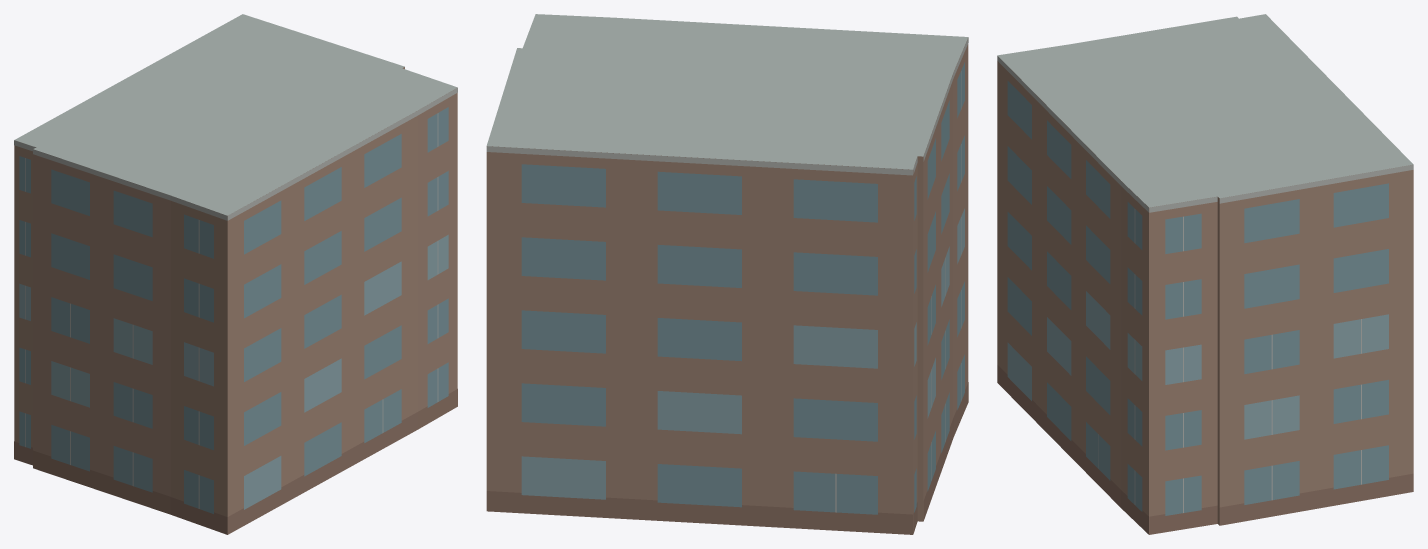
File: survey-upis-32725844.glb
3 views of the same model, side by side, from view 1: azimuth 30°, elevation 25°; view 2: azimuth 150°, elevation 25°; view 3: azimuth 270°, elevation 25° (orthographic). The views are drawn at different scales.
Visible parts, largest first — view 1: survey-upis-32725844.tmp; view 2: survey-upis-32725844.tmp; view 3: survey-upis-32725844.tmp.
Boxes of the visible parts, bbox=[...] form: survey-upis-32725844.tmp: bbox=[14, 14, 457, 534]; survey-upis-32725844.tmp: bbox=[486, 14, 968, 534]; survey-upis-32725844.tmp: bbox=[997, 14, 1413, 534].
Bounding box in the file's own units: 19.35 × 15.25 × 17.59.
